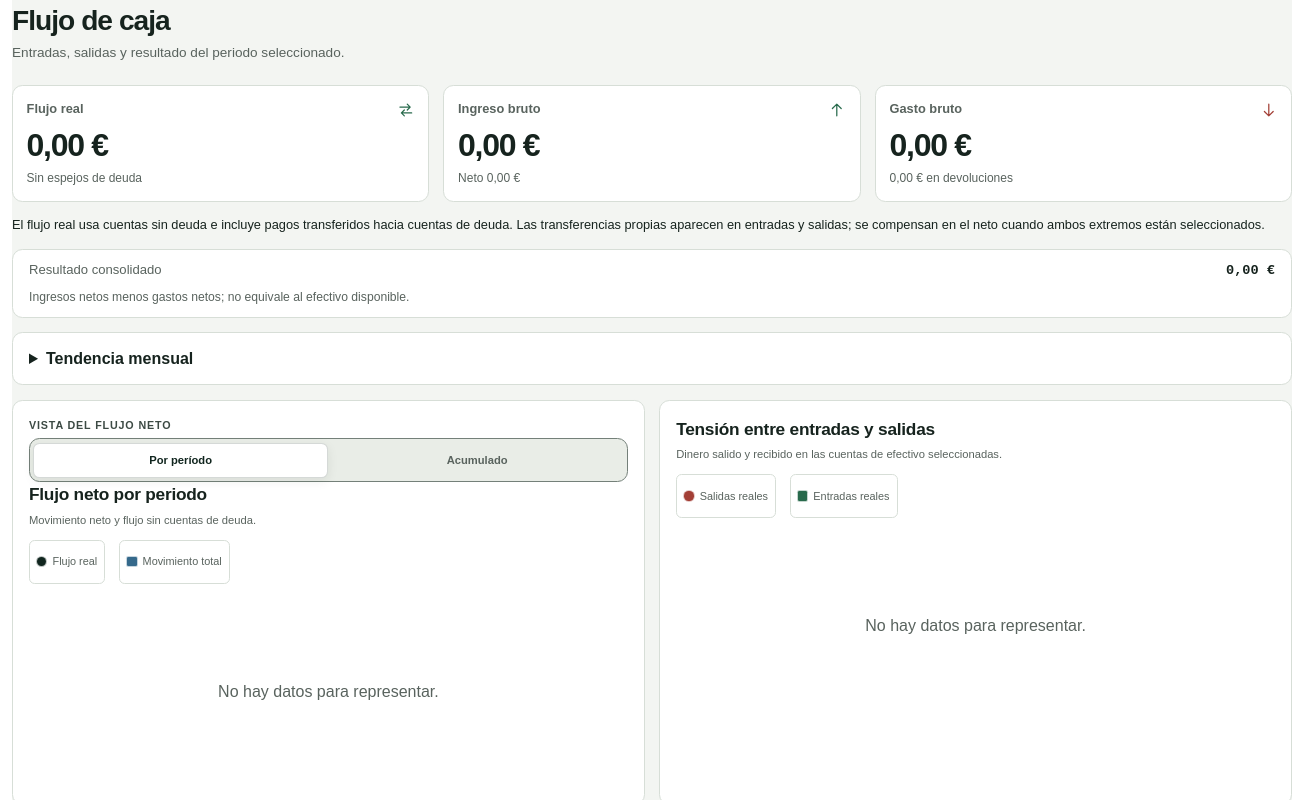
Test: CashFlowPageView › explains missing complete months for realCashFlow
Click the heading "Tendencia mensual": (120, 358) [46,350,193,367]
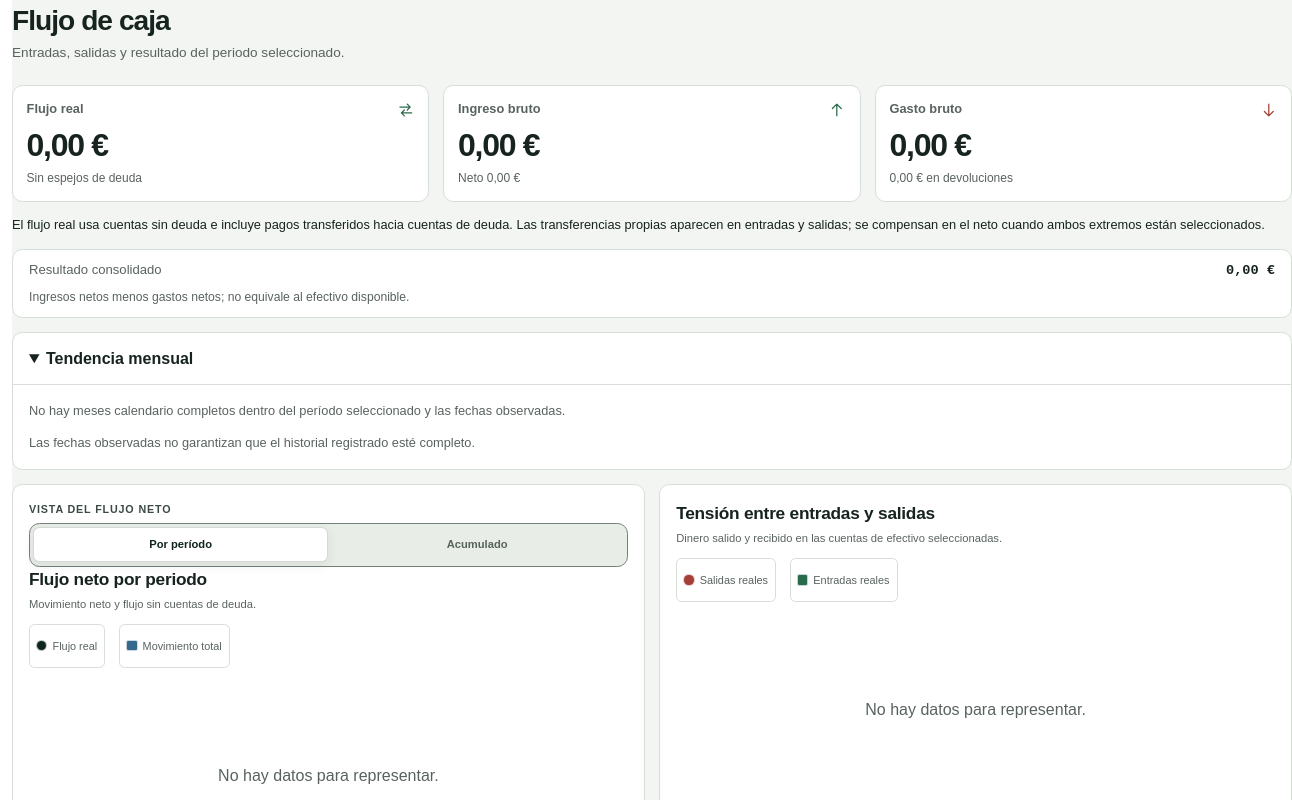
Check: the text "No hay meses calendario completos" is shown, box [29,403,565,418]
Check: the text "Las fechas observadas no garantizan" is shown, box [29,435,475,450]
